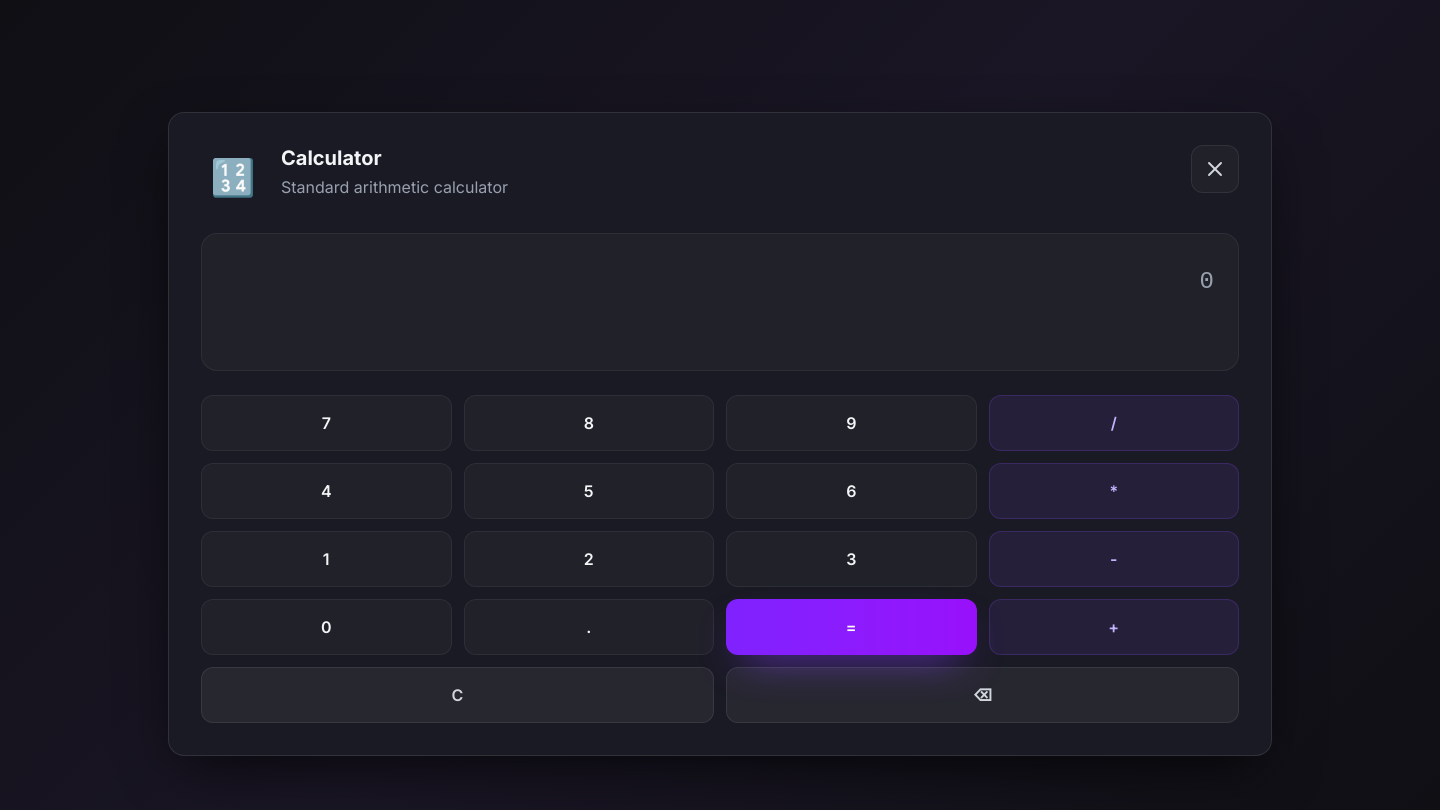
Scenario: Calculator page › handles division by zero gracefully
Click the button "5".
click(589, 491)  # box left=464, top=463, right=714, bottom=519
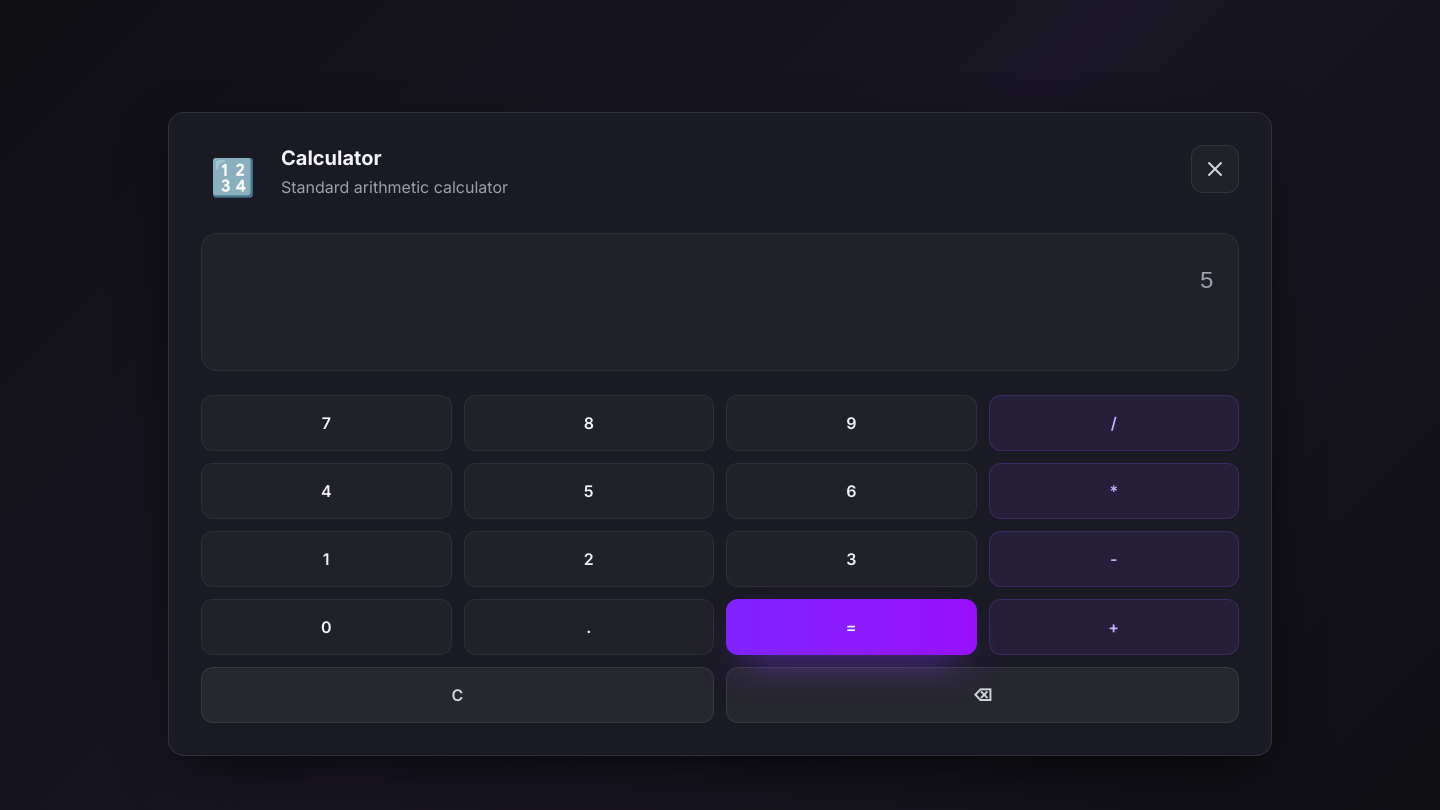
Click the button "/".
click(1114, 423)  # box left=988, top=395, right=1239, bottom=451
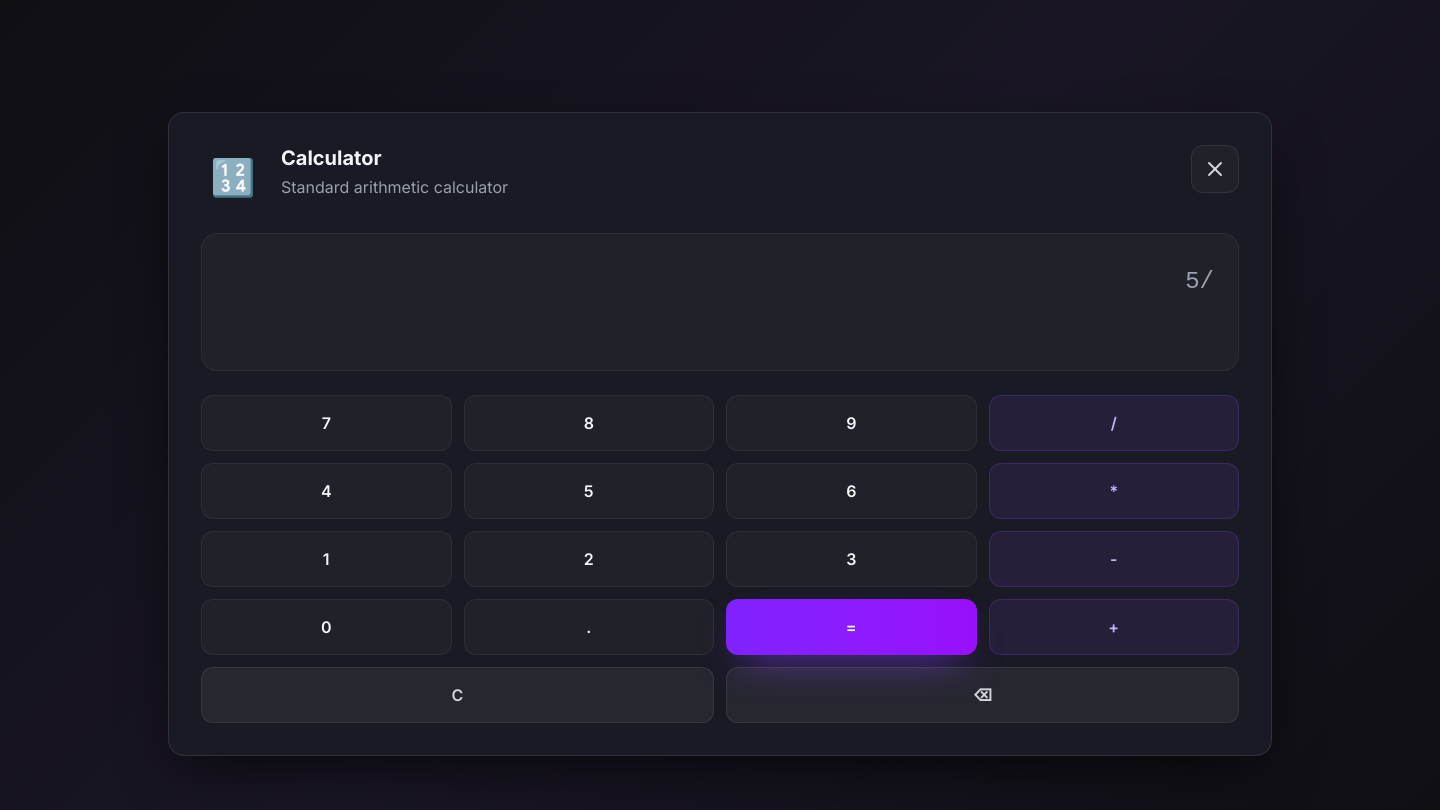
Click the button "0".
click(326, 627)  # box left=201, top=599, right=452, bottom=655
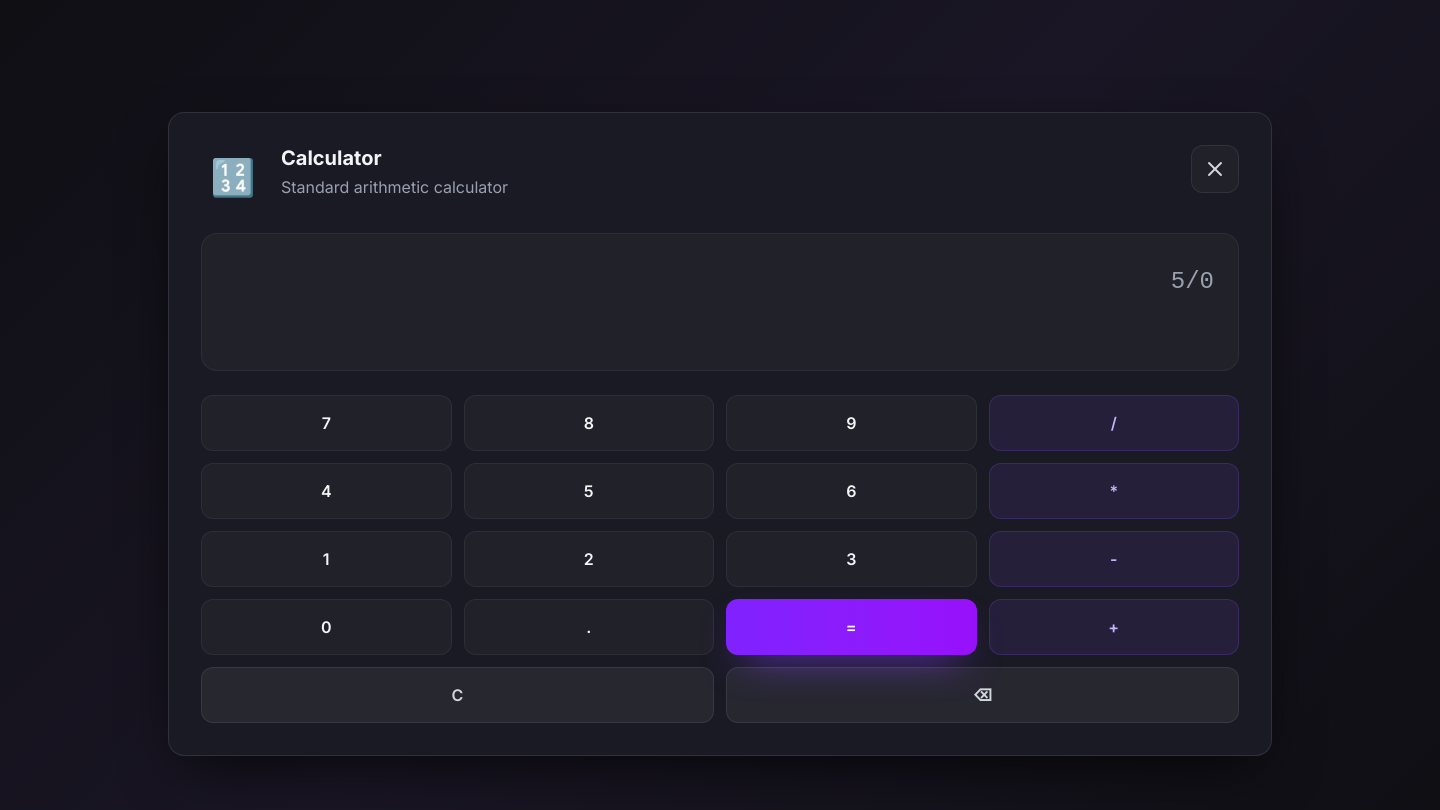
Click the button "=".
click(851, 627)  # box left=726, top=599, right=976, bottom=655
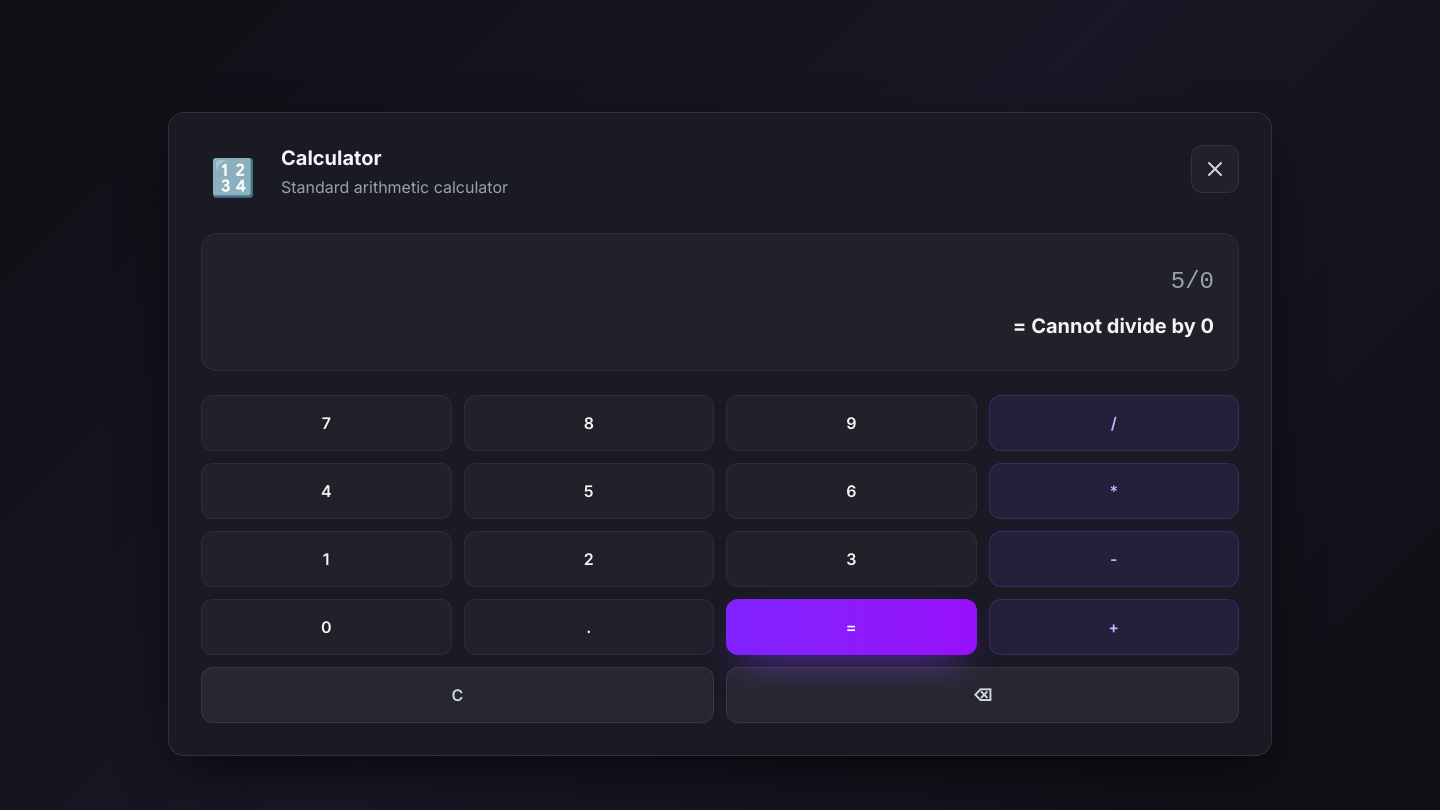
Expected: the text "= Cannot divide by 0" is shown, left=1013, top=314, right=1214, bottom=338
